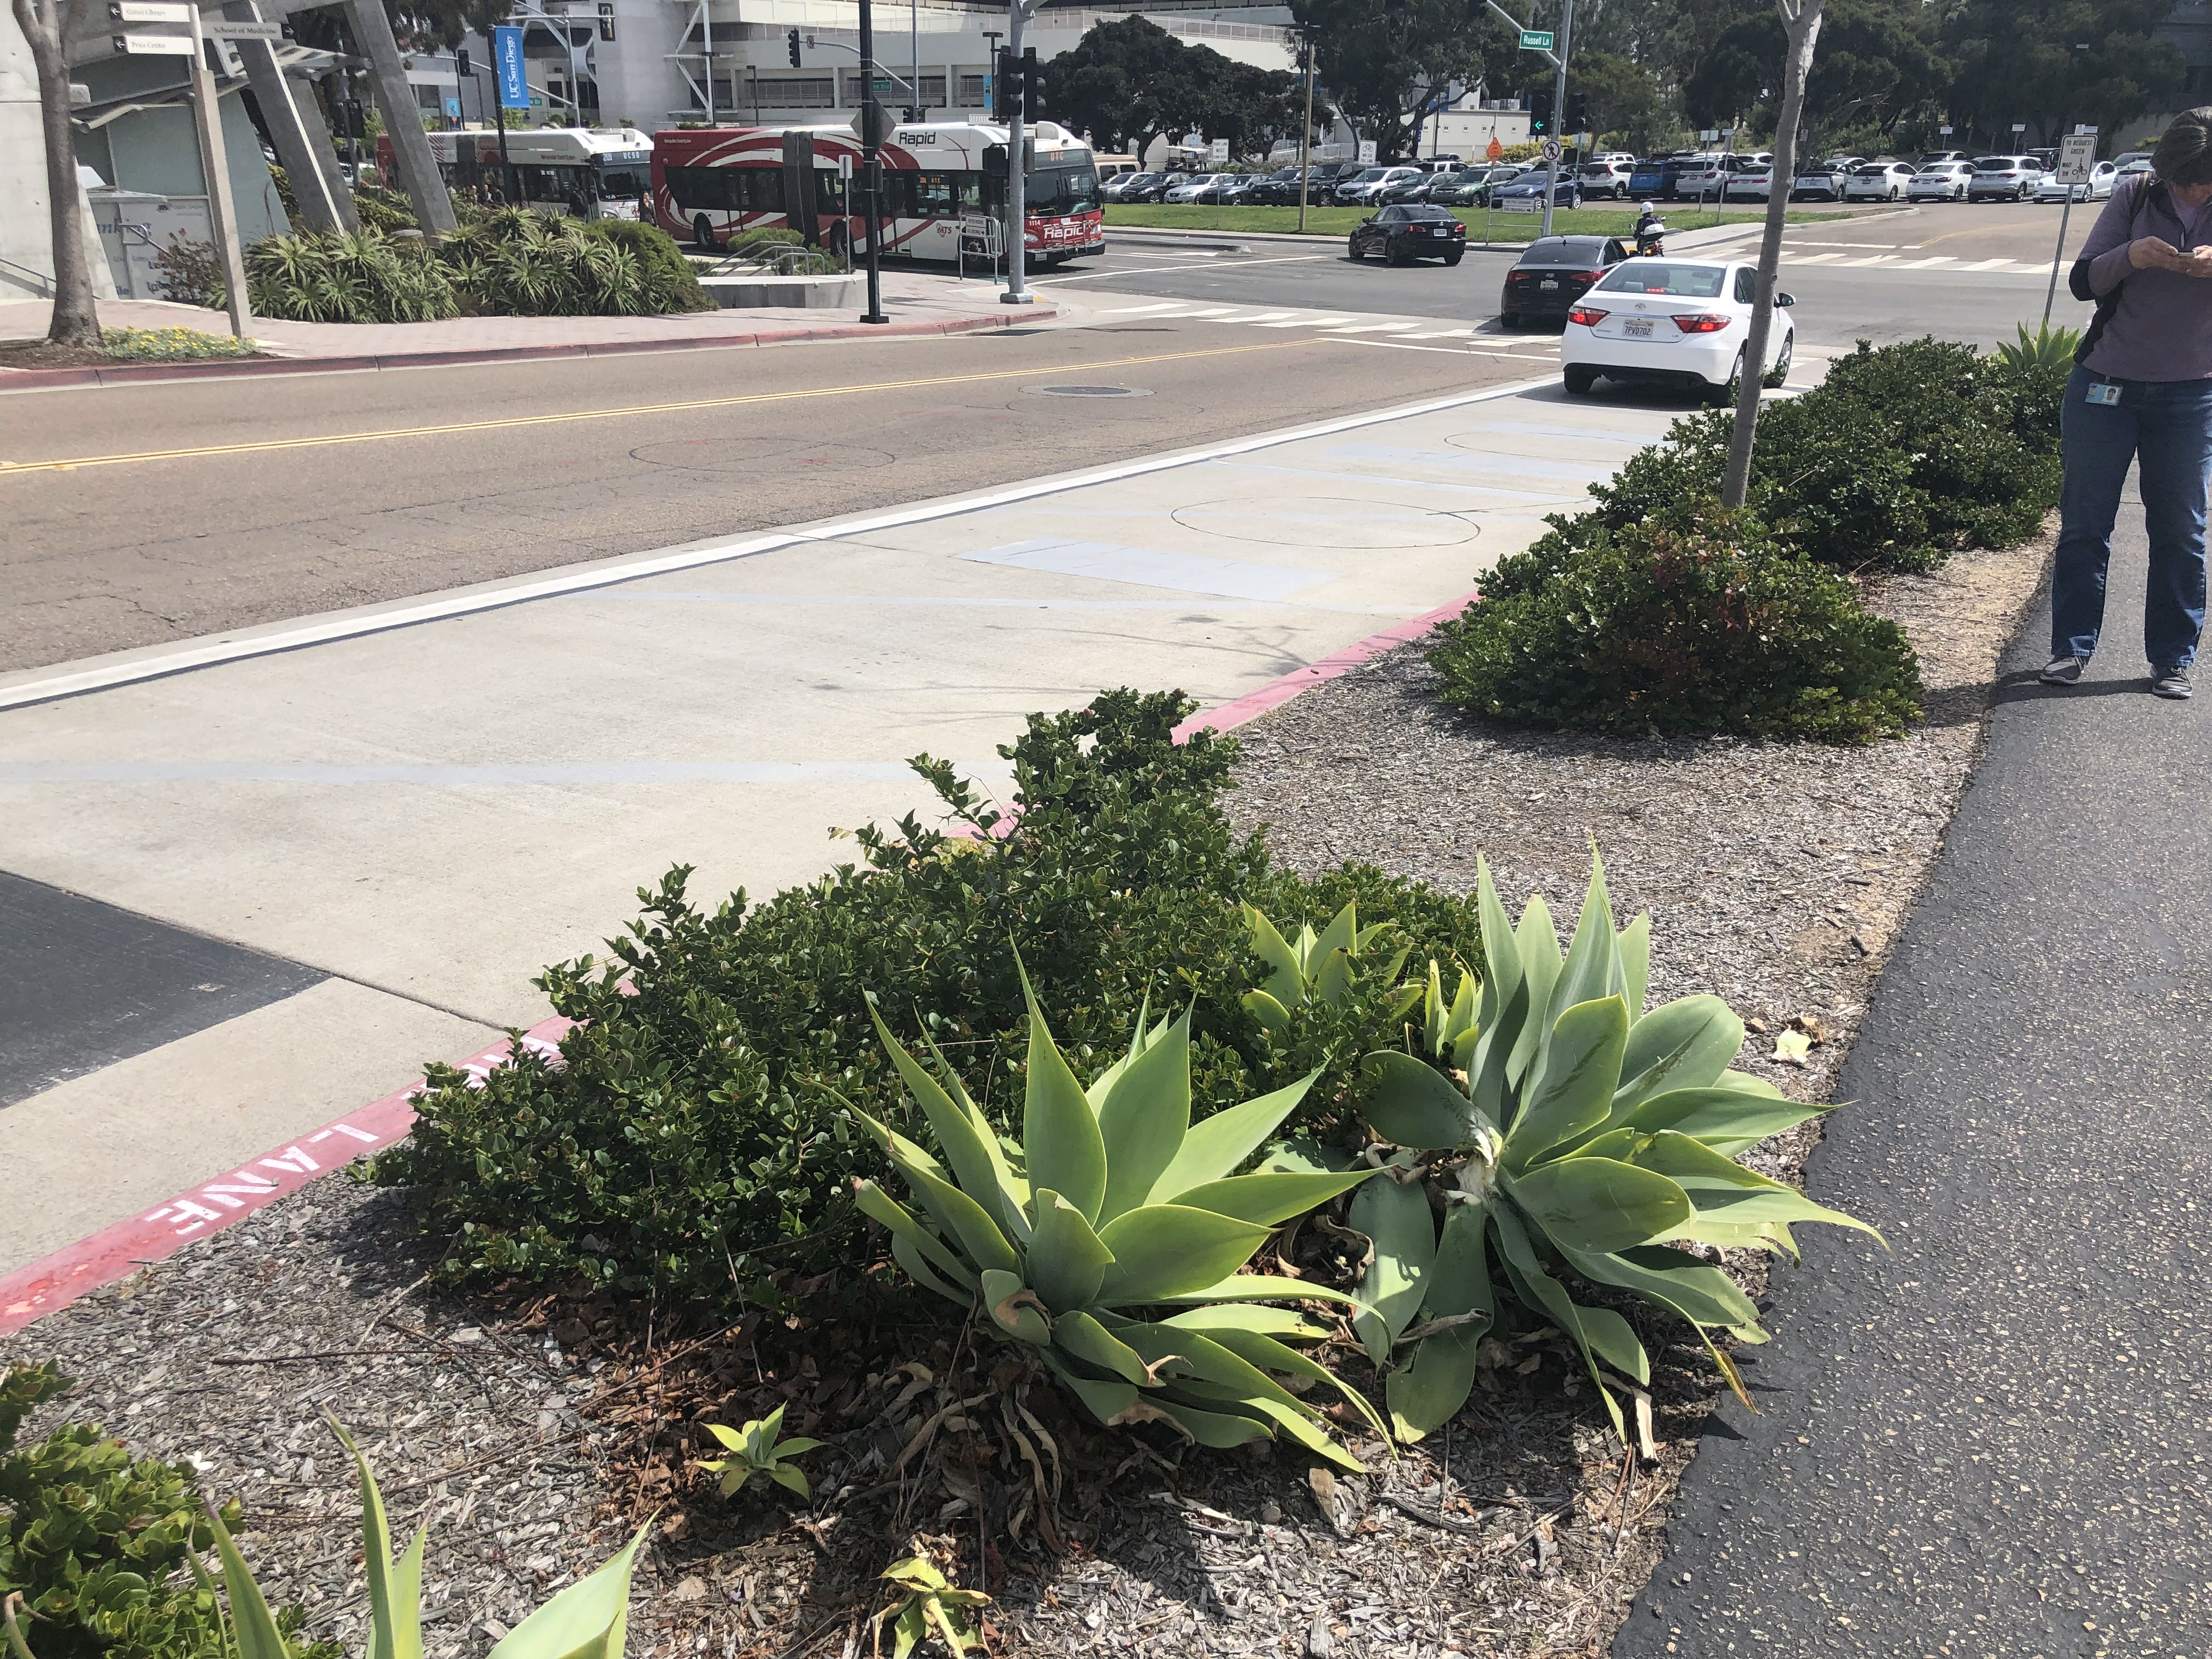Edge: (9, 619, 1454, 1366), (0, 289, 1047, 408)
Obstacle: (423, 735, 1832, 1530), (1480, 310, 2083, 735), (2078, 119, 2209, 694), (1493, 218, 1801, 416)
